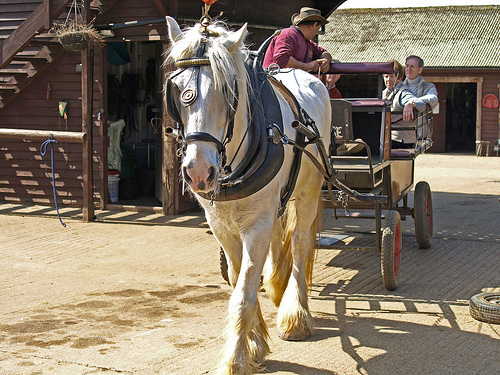horse: (160, 7, 332, 375)
